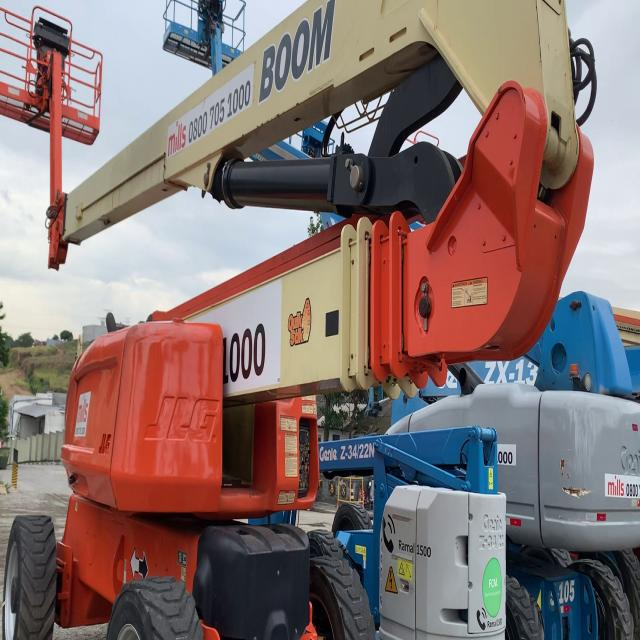Adesivo Longo: (166, 59, 254, 162)
